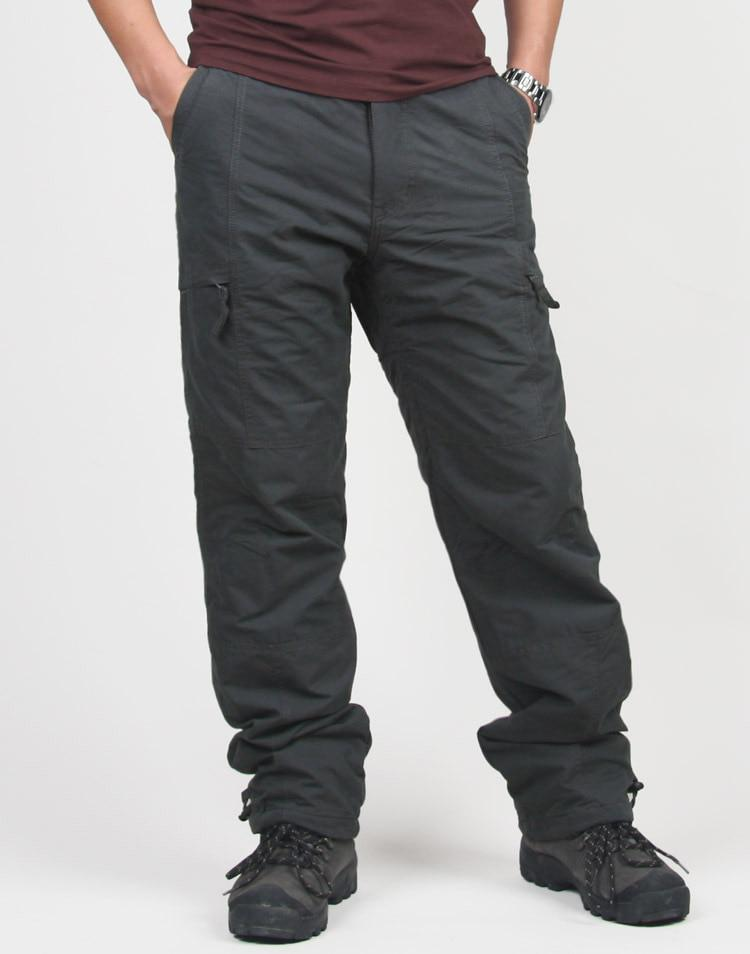pants: (171, 67, 634, 833)
